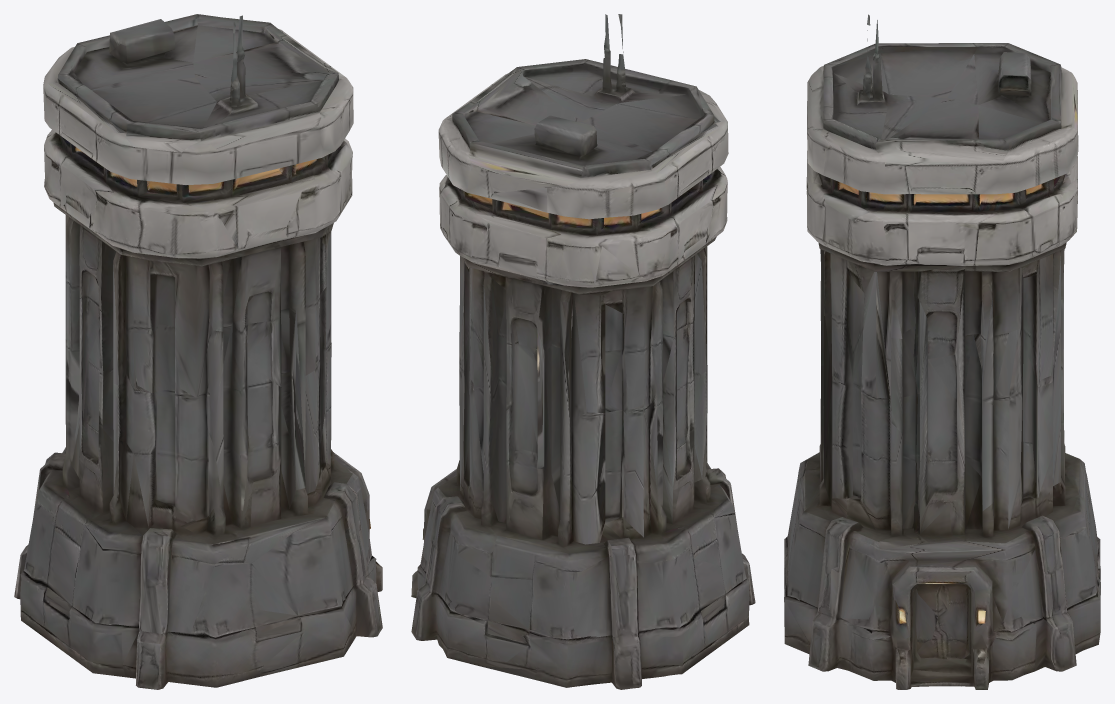
Rendered from guardTower.glb.
3 renders of one model, left to right at view 1: azimuth 30°, elevation 25°; view 2: azimuth 150°, elevation 25°; view 3: azimuth 270°, elevation 25°, orthographic. The views are drawn at different scales.
Visible parts, largest first — view 1: guardTower; view 2: guardTower; view 3: guardTower.
Boxes of the visible parts, x1=… form: guardTower: x1=14, y1=14, x2=382, y2=689; guardTower: x1=411, y1=14, x2=755, y2=689; guardTower: x1=784, y1=14, x2=1100, y2=689.
Size of the model in its own units: 8.72 by 17 by 8.15.
1 material, 1 textured.
